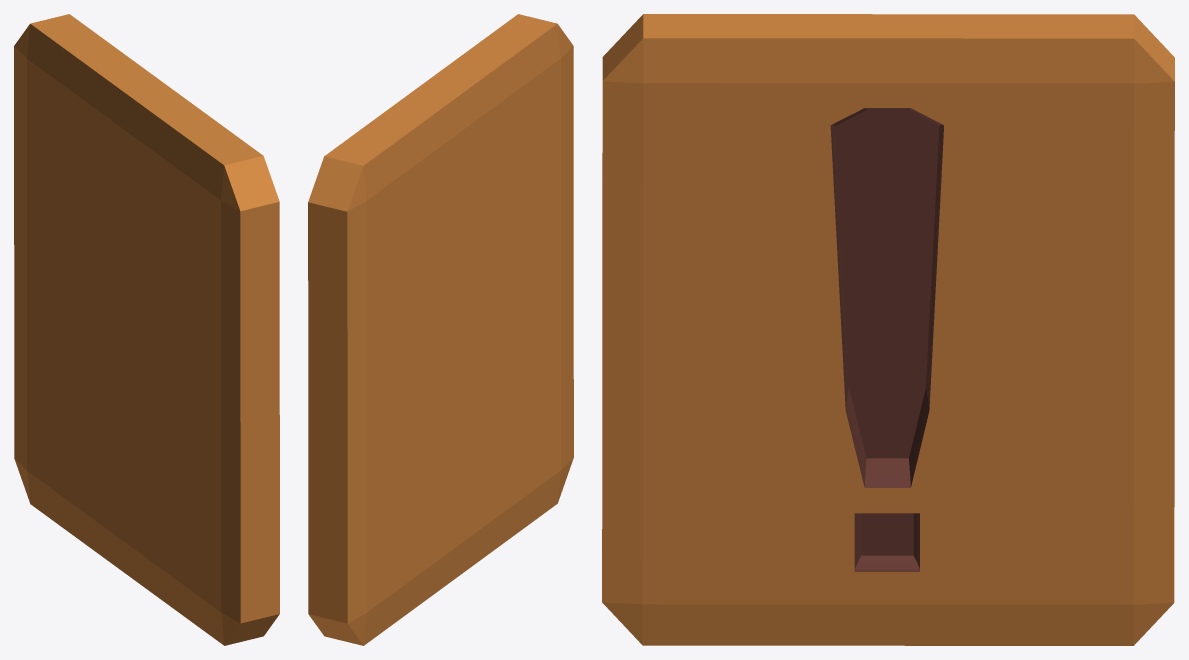
Rendered from exclamation mark.fbx.
3 renders of one model, left to right at view 1: azimuth 30°, elevation 25°; view 2: azimuth 150°, elevation 25°; view 3: azimuth 270°, elevation 25°, orthographic. The views are drawn at different scales.
Parts seen in each view (by area): view 1: Cube.008; view 2: Cube.008; view 3: Cube.008.
Boxes of the visible parts, left/top/right/bottom form: Cube.008: left=14, top=14, right=279, bottom=645; Cube.008: left=308, top=14, right=573, bottom=645; Cube.008: left=602, top=14, right=1174, bottom=645.
Size of the model in its own units: 5.98 by 59.87 by 51.14.
